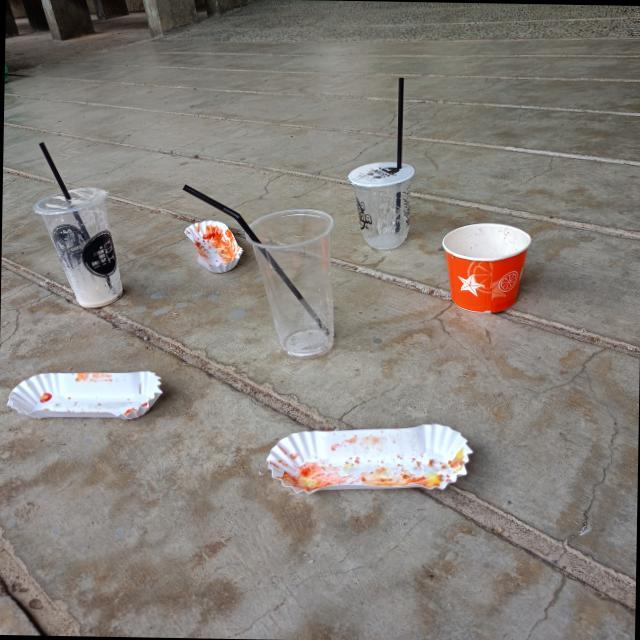recyclable waste: (256, 410, 482, 504), (236, 202, 344, 363), (22, 180, 132, 316), (2, 356, 172, 429), (432, 216, 538, 316), (342, 156, 421, 258), (175, 212, 250, 278)
